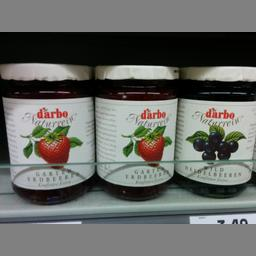jam: (0, 62, 93, 204), (94, 64, 178, 201), (175, 66, 255, 199)
